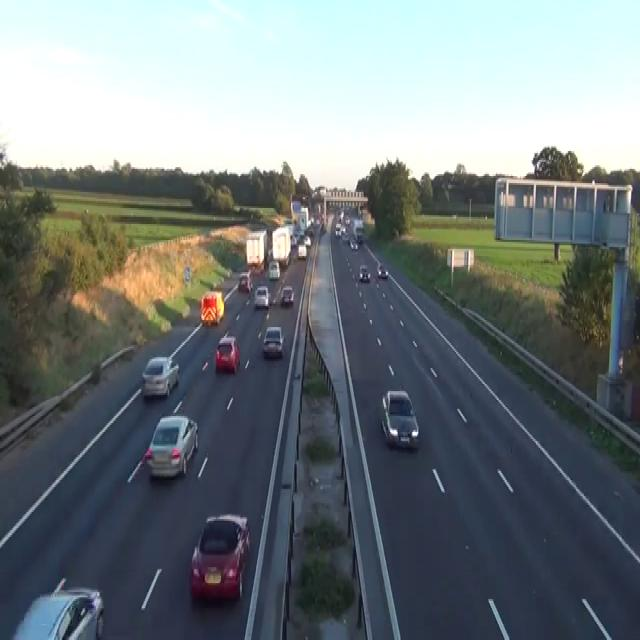Car: (11, 576, 104, 638), (189, 512, 250, 603), (145, 414, 198, 478), (380, 389, 419, 448), (141, 356, 179, 396), (215, 334, 240, 374), (262, 326, 285, 358), (254, 284, 270, 308), (279, 284, 294, 306), (238, 270, 252, 292), (268, 260, 280, 279), (359, 265, 370, 281), (377, 263, 388, 277), (297, 243, 306, 260), (340, 228, 349, 242), (349, 236, 358, 249), (266, 247, 273, 263), (355, 229, 362, 242), (335, 222, 341, 236), (303, 235, 311, 245), (306, 226, 314, 236), (290, 235, 296, 247), (320, 222, 326, 233)
Truck: (245, 230, 268, 270), (200, 290, 224, 325), (271, 226, 291, 266)
